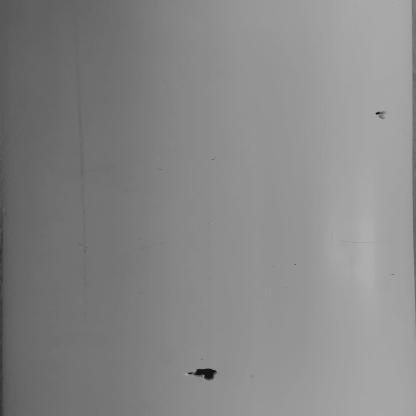kongdong: (177, 358, 250, 390), (374, 101, 400, 128)
